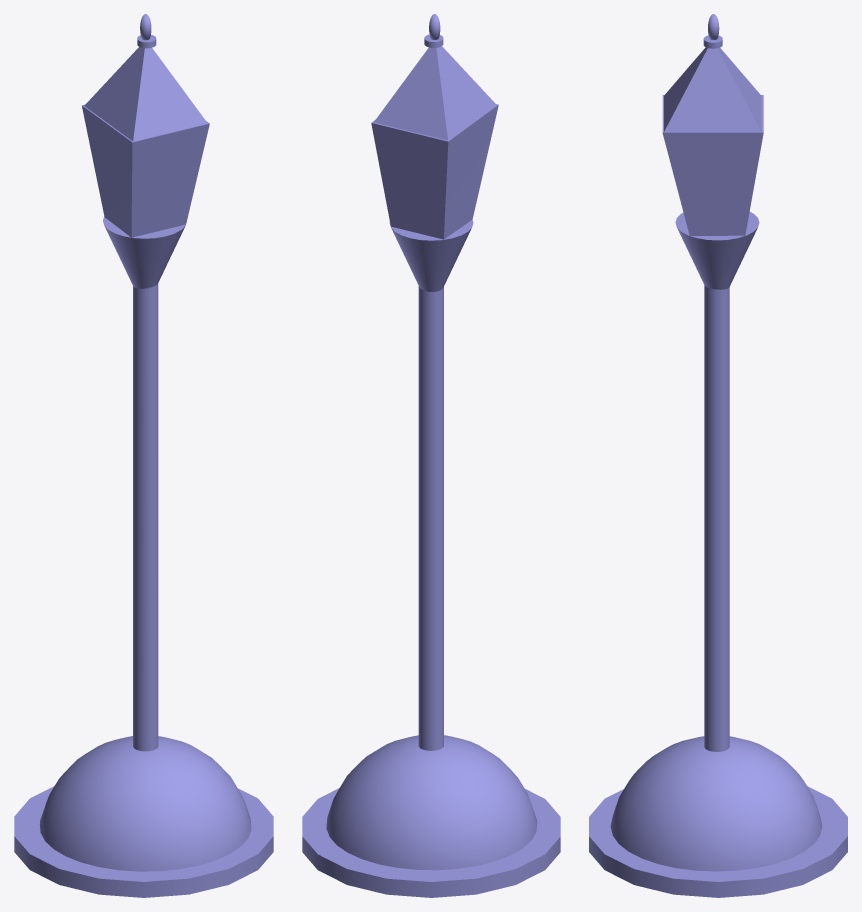
The model's file is street_light.obj.
3 views of the same model, side by side, from view 1: azimuth 30°, elevation 25°; view 2: azimuth 150°, elevation 25°; view 3: azimuth 270°, elevation 25° (orthographic).
Parts seen in each view (by area): view 1: Half_sphere_base, Light_pole, glass_cage, Light_street_base, Light_top, Light_base; view 2: Half_sphere_base, Light_pole, glass_cage, Light_street_base, Light_top, Light_base; view 3: Half_sphere_base, Light_pole, Light_street_base, glass_cage, Light_top, Light_base.
Part boxes in pixels (x1=…): Half_sphere_base: x1=39, y1=736, x2=251, y2=871; Light_pole: x1=133, y1=283, x2=158, y2=751; glass_cage: x1=82, y1=104, x2=209, y2=237; Light_street_base: x1=14, y1=786, x2=273, y2=897; Light_top: x1=84, y1=47, x2=207, y2=141; Light_base: x1=103, y1=217, x2=185, y2=288; Half_sphere_base: x1=326, y1=735, x2=537, y2=870; Light_pole: x1=418, y1=286, x2=443, y2=750; glass_cage: x1=371, y1=104, x2=498, y2=239; Light_street_base: x1=302, y1=788, x2=560, y2=897; Light_top: x1=374, y1=46, x2=496, y2=140; Light_base: x1=389, y1=219, x2=473, y2=291; Half_sphere_base: x1=610, y1=736, x2=822, y2=871; Light_pole: x1=704, y1=285, x2=729, y2=751; Light_street_base: x1=589, y1=786, x2=847, y2=897; glass_cage: x1=662, y1=95, x2=763, y2=235; Light_top: x1=664, y1=47, x2=761, y2=131; Light_base: x1=675, y1=212, x2=759, y2=289.
Size of the model in its own units: 39.94 by 139 by 39.34.
